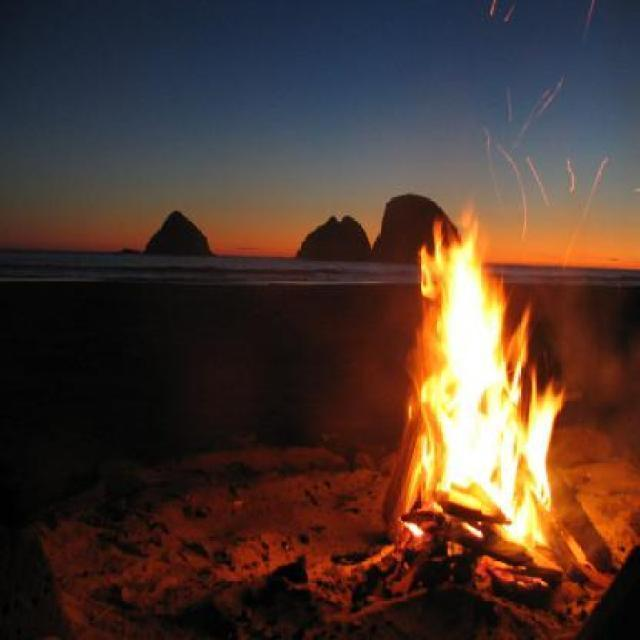Fire: (404, 211, 568, 528)
